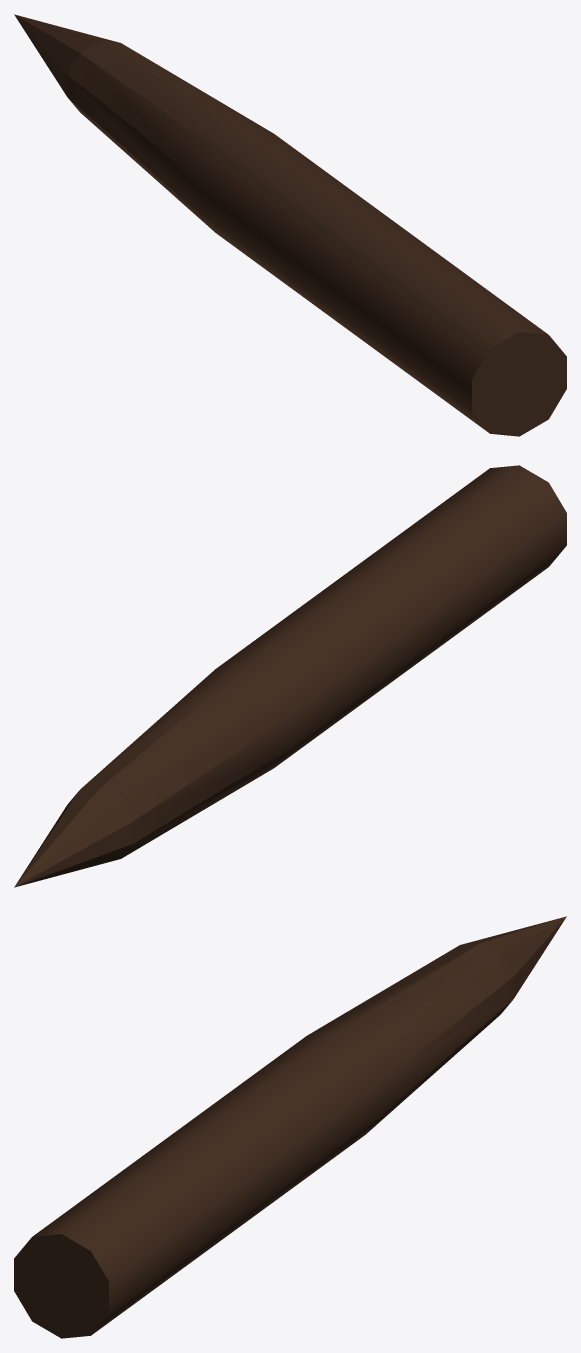
The model's file is stake_basic_wood.glb.
3 views of the same model, one above another, from view 1: azimuth 30°, elevation 25°; view 2: azimuth 150°, elevation 25°; view 3: azimuth 330°, elevation 25° (orthographic).
Visible parts, largest first — view 1: 0.123; view 2: 0.123; view 3: 0.123.
Part boxes in pixels (x1,y1,x2,y2): 0.123: (14,14,566,436); 0.123: (14,465,566,887); 0.123: (14,916,566,1338).
Size of the model in its own units: 0.038 by 0.04 by 0.3502.
